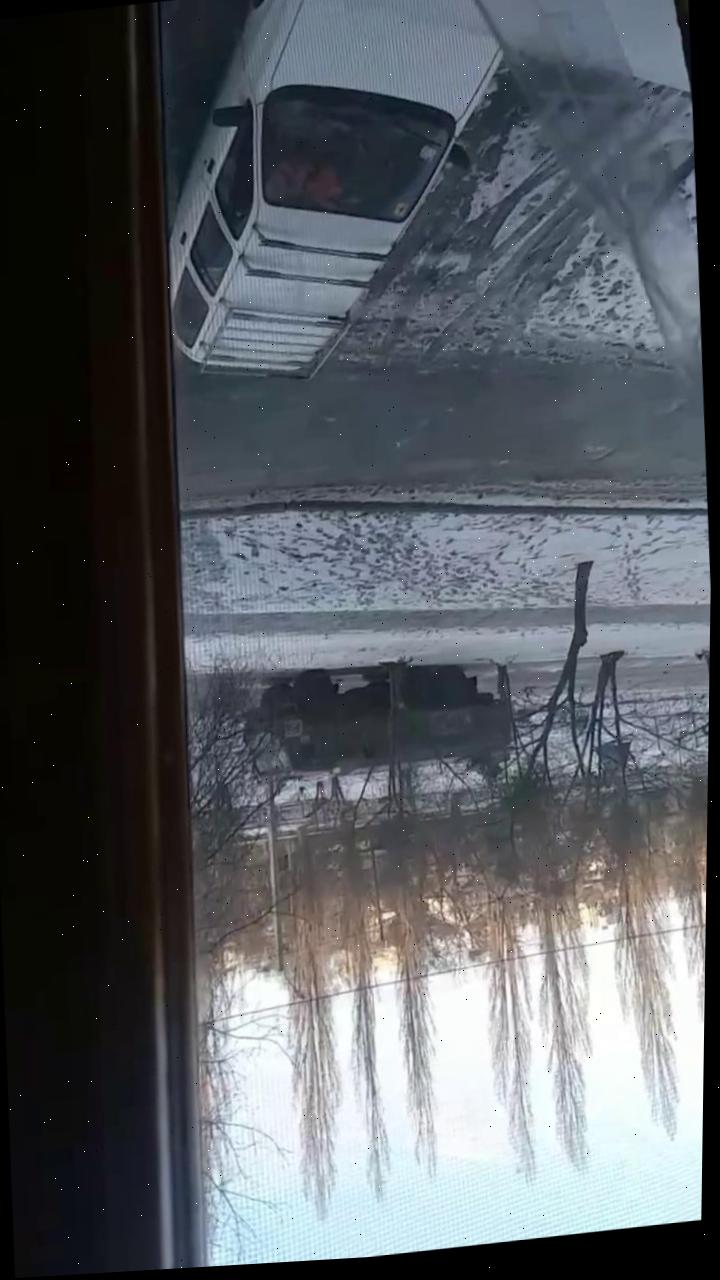car: (151, 0, 520, 394)
truck: (236, 646, 516, 795)
